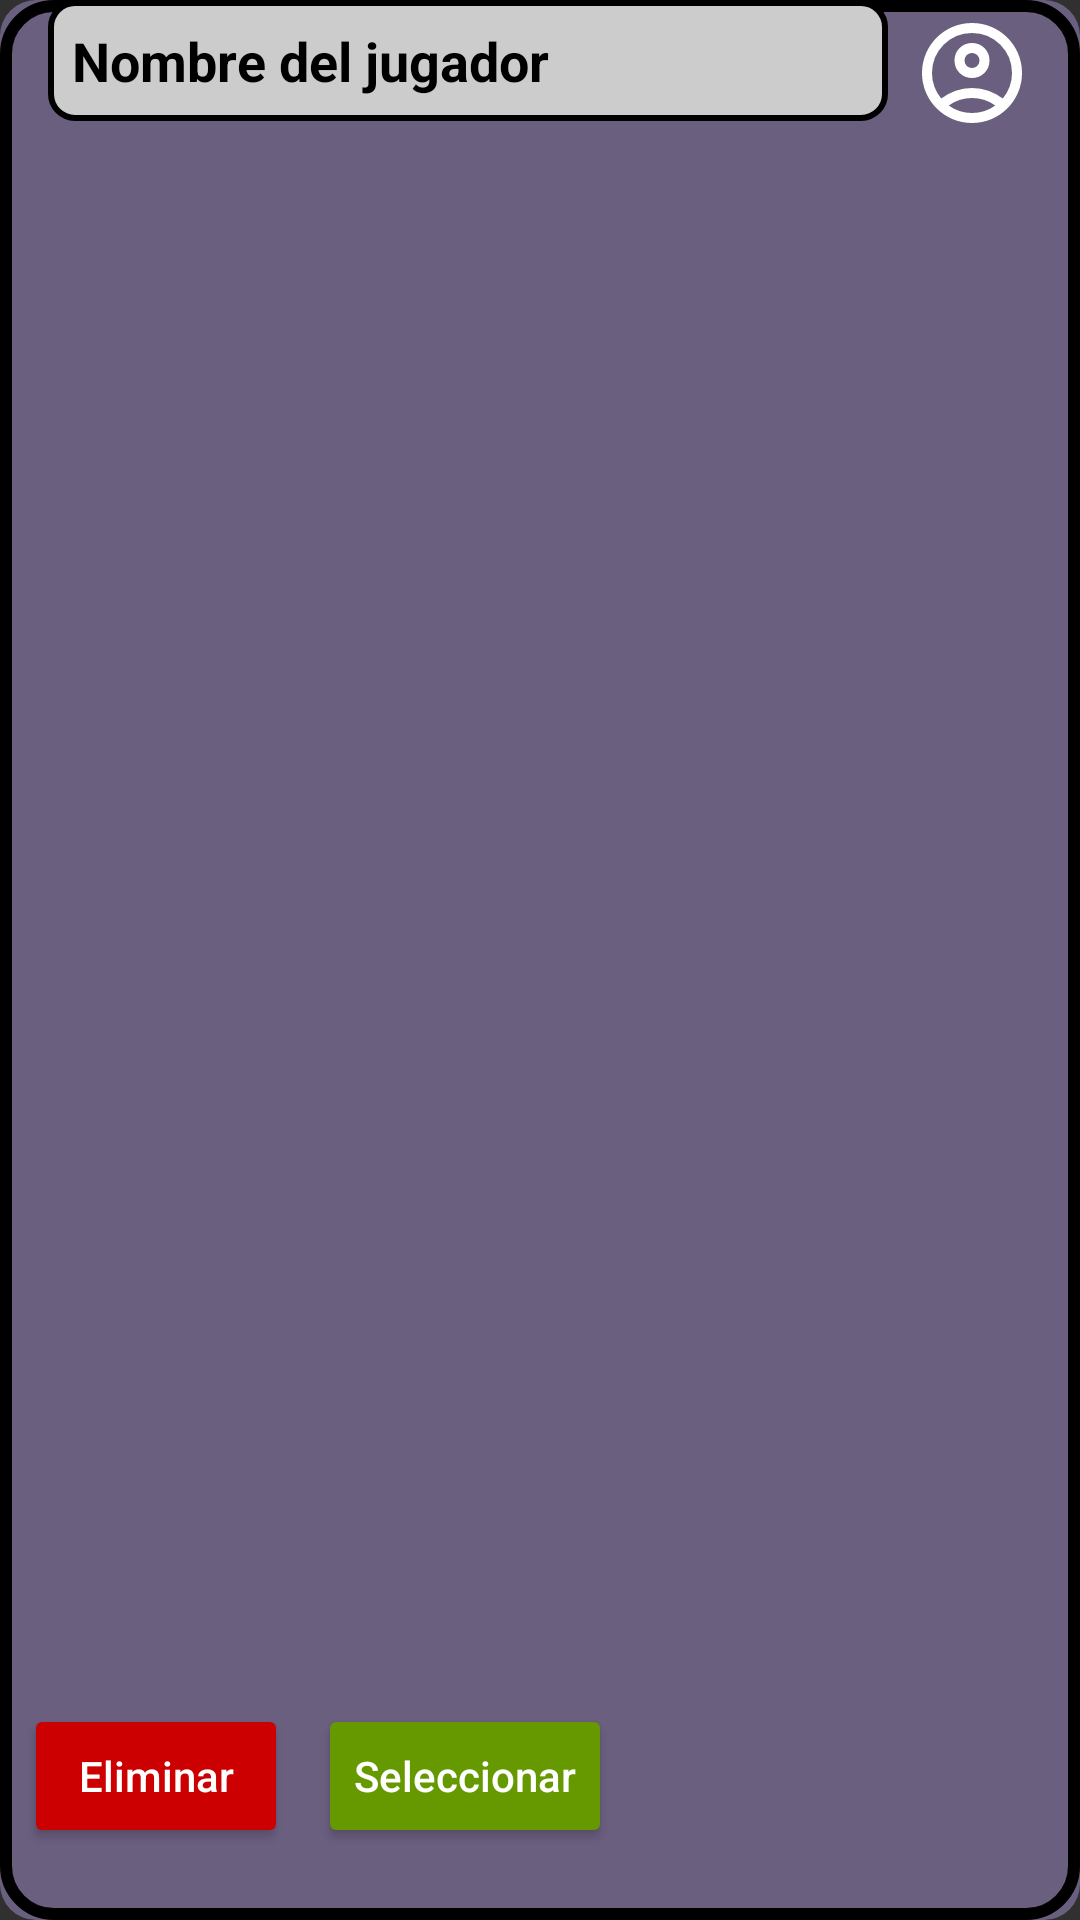

Point at icon controls on the screen. Image size 1080*1920, points as [x,y].
Imagen de foto de perfil: [972,73]
